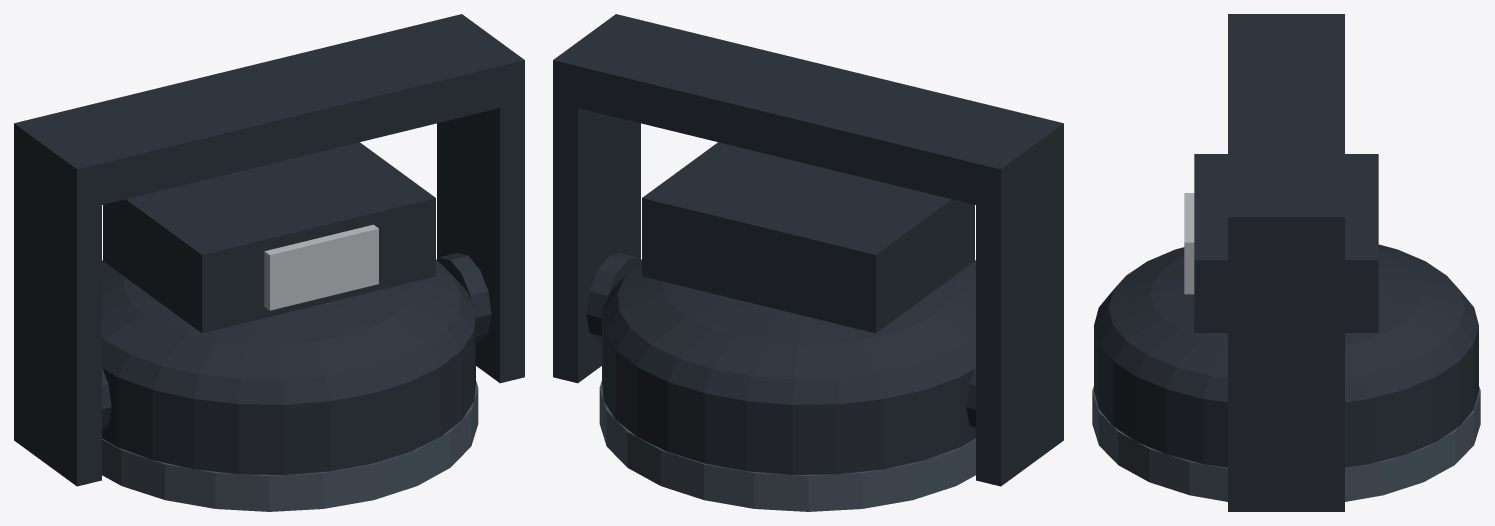
The model's file is flat-led-par-no-clamp.glb.
3 renders of one model, left to right at view 1: azimuth 30°, elevation 25°; view 2: azimuth 150°, elevation 25°; view 3: azimuth 270°, elevation 25°, orthographic. The views are drawn at different scales.
Parts seen in each view (by area): view 1: hanging-frame, body, driver-housing, lens-ring, body-display; view 2: hanging-frame, body, driver-housing, lens-ring; view 3: hanging-frame, body, driver-housing, lens-ring, body-display.
Boxes of the visible parts, <box> form: hanging-frame: <box>14,14,524,486</box>; body: <box>102,259,475,474</box>; driver-housing: <box>103,142,435,333</box>; lens-ring: <box>102,381,478,511</box>; body-display: <box>264,224,378,310</box>; hanging-frame: <box>553,14,1063,486</box>; body: <box>602,259,975,474</box>; driver-housing: <box>642,142,974,333</box>; lens-ring: <box>599,381,975,511</box>; hanging-frame: <box>1228,14,1344,511</box>; body: <box>1094,244,1478,467</box>; driver-housing: <box>1194,154,1378,332</box>; lens-ring: <box>1092,386,1480,501</box>; body-display: <box>1184,193,1194,294</box>.
Size of the model in its own units: 0.2872 by 0.2054 by 0.232.
